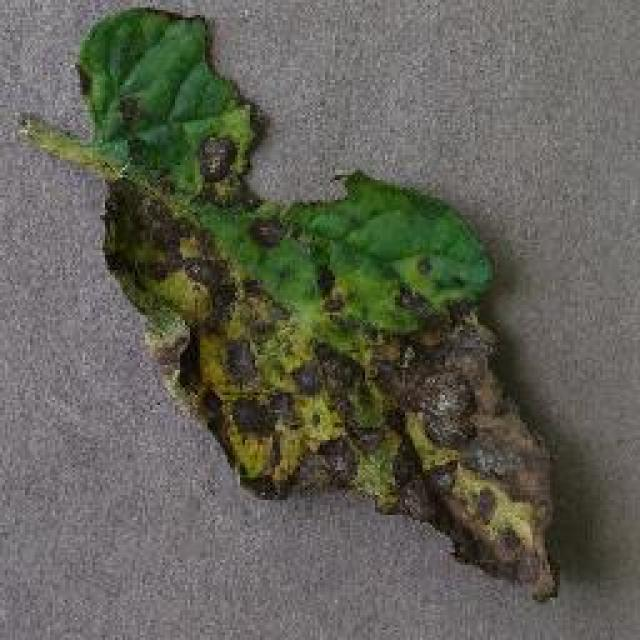leaf blight: (21, 8, 559, 598)
